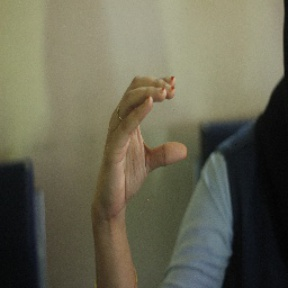C: (100, 67, 196, 183)
